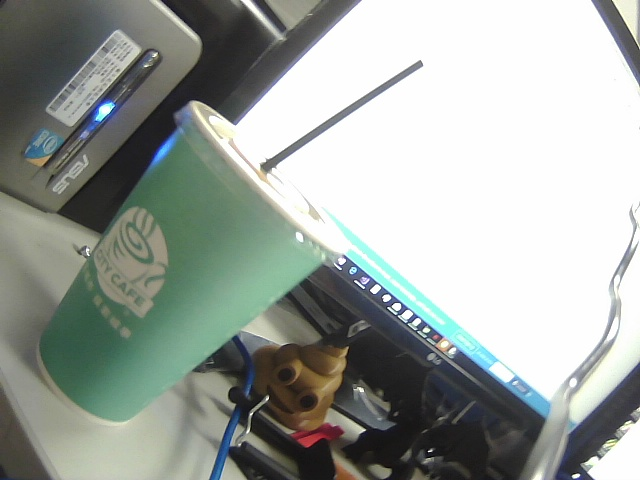beverage: (35, 42, 432, 422)
